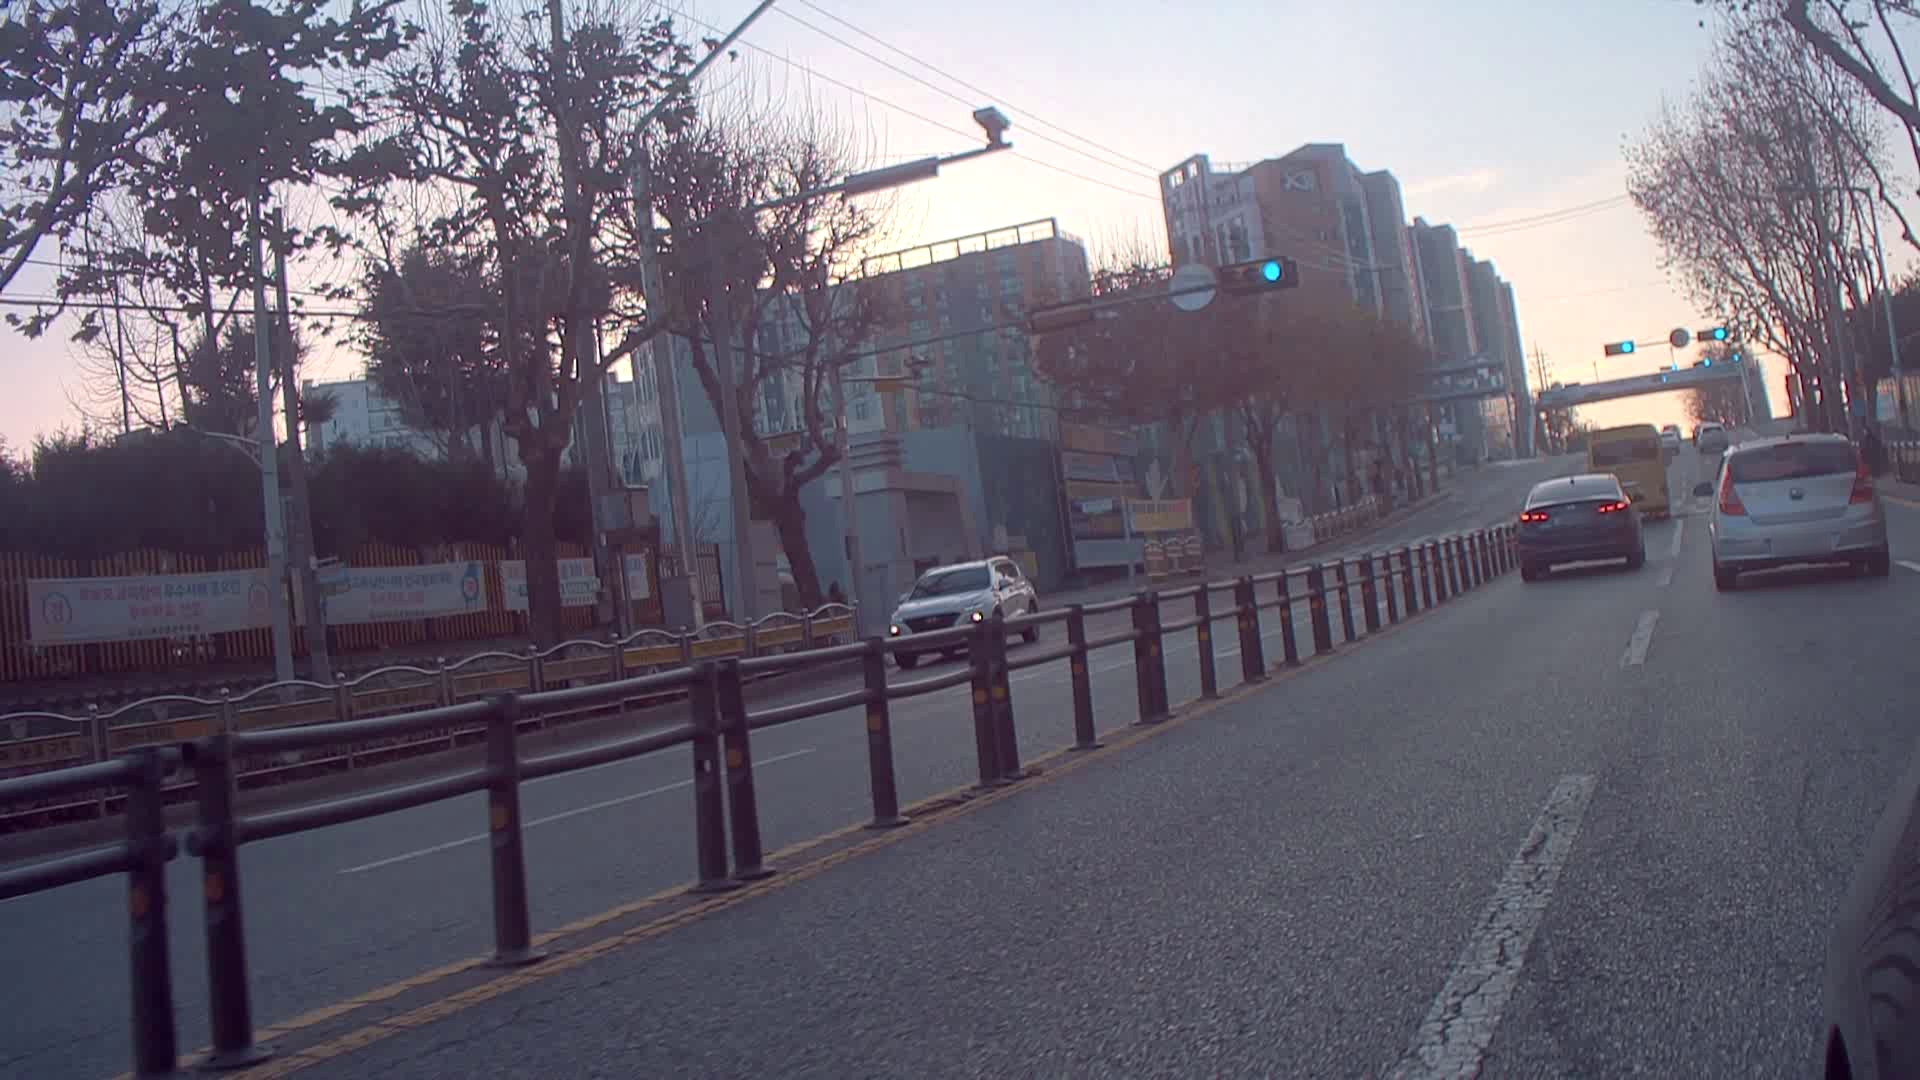trafficLight: (1218, 257, 1294, 293), (1696, 327, 1734, 345), (1604, 338, 1633, 357)
trafficSignCircle: (1669, 327, 1687, 345)
